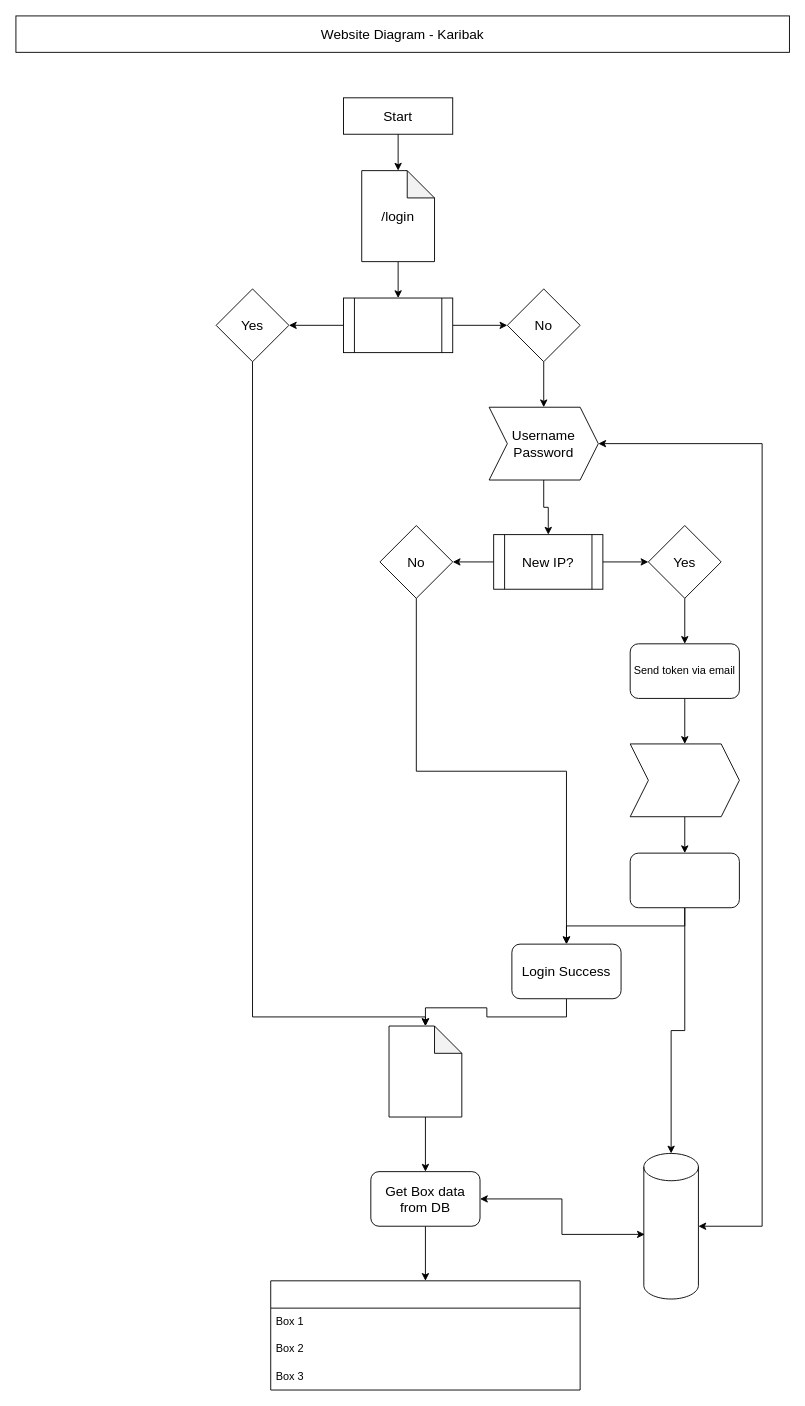
Some shapes in this 805 by 1406 pixel diagram are drawn without their labels. Each missing label, with the box of its shape:
/home: (388, 1025, 462, 1117)
Boxes Overview: (270, 1280, 580, 1390)
Database: (643, 1153, 698, 1299)
Save IP for user for 30 days: (629, 852, 739, 908)
Session Active?: (343, 297, 453, 353)
Token: (629, 743, 739, 817)
